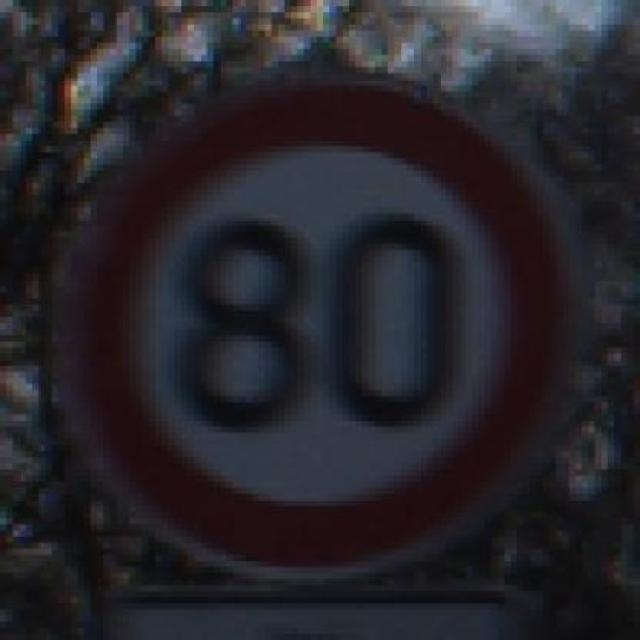forb_speed_over_80: (76, 78, 570, 582)
